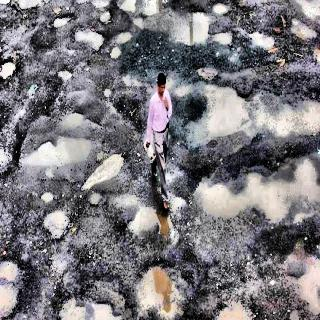pothole: (183, 156, 320, 228), (196, 71, 320, 145), (112, 185, 186, 246), (0, 243, 45, 320), (58, 280, 132, 320), (134, 262, 184, 320), (16, 136, 97, 168), (146, 13, 213, 47), (294, 234, 320, 320), (40, 213, 75, 246), (74, 28, 109, 58), (115, 0, 145, 32), (248, 22, 276, 53), (215, 296, 250, 320), (54, 108, 86, 130), (210, 29, 235, 50), (39, 178, 54, 212), (0, 60, 18, 85), (211, 2, 231, 20), (83, 189, 103, 204), (54, 14, 72, 28), (91, 0, 111, 10), (97, 12, 114, 22)
